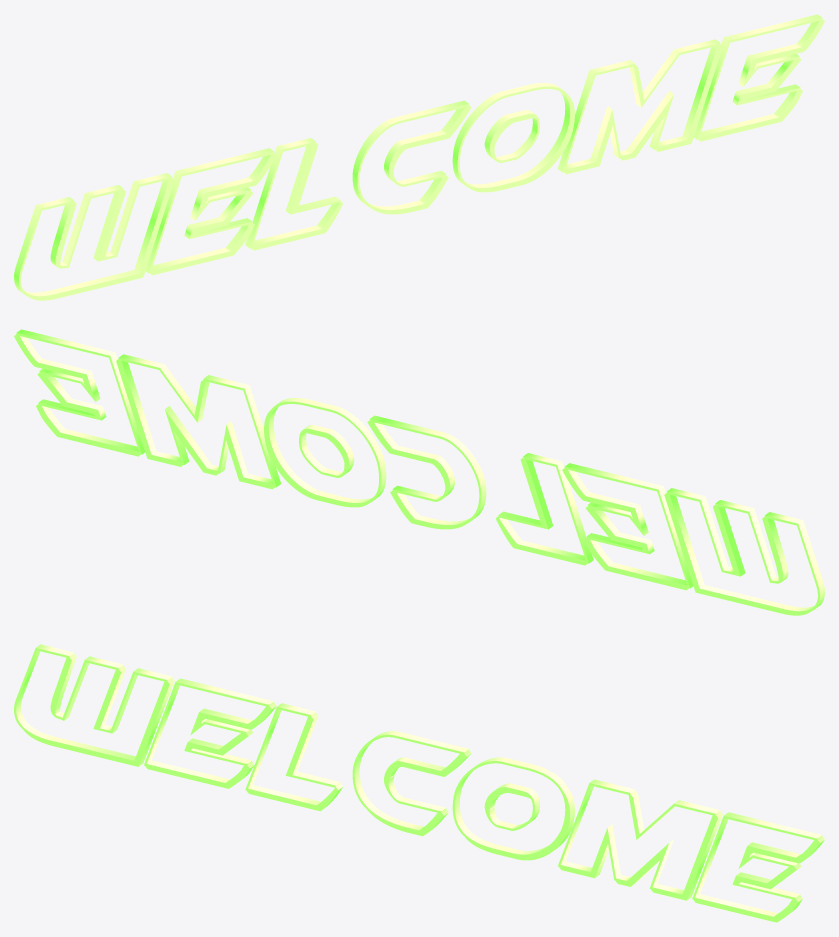
Rendered from welcome.gltf.
3 views of the same model, one above another, from view 1: azimuth 30°, elevation 25°; view 2: azimuth 150°, elevation 25°; view 3: azimuth 330°, elevation 25° (orthographic).
Parts seen in each view (by area): view 1: Text_0; view 2: Text_0; view 3: Text_0.
Part boxes in pixels (box(x1,y1,x2,y2)): Text_0: box(14, 14, 824, 300); Text_0: box(14, 329, 824, 615); Text_0: box(14, 644, 824, 922).
Size of the model in its own units: 5.67 by 0.6319 by 0.06.
